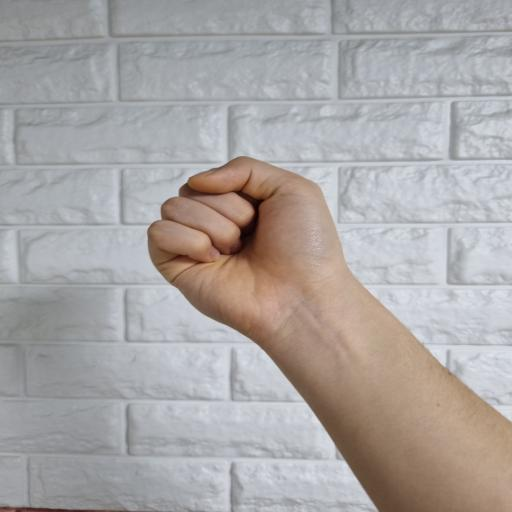Rock: (148, 157, 512, 511)
